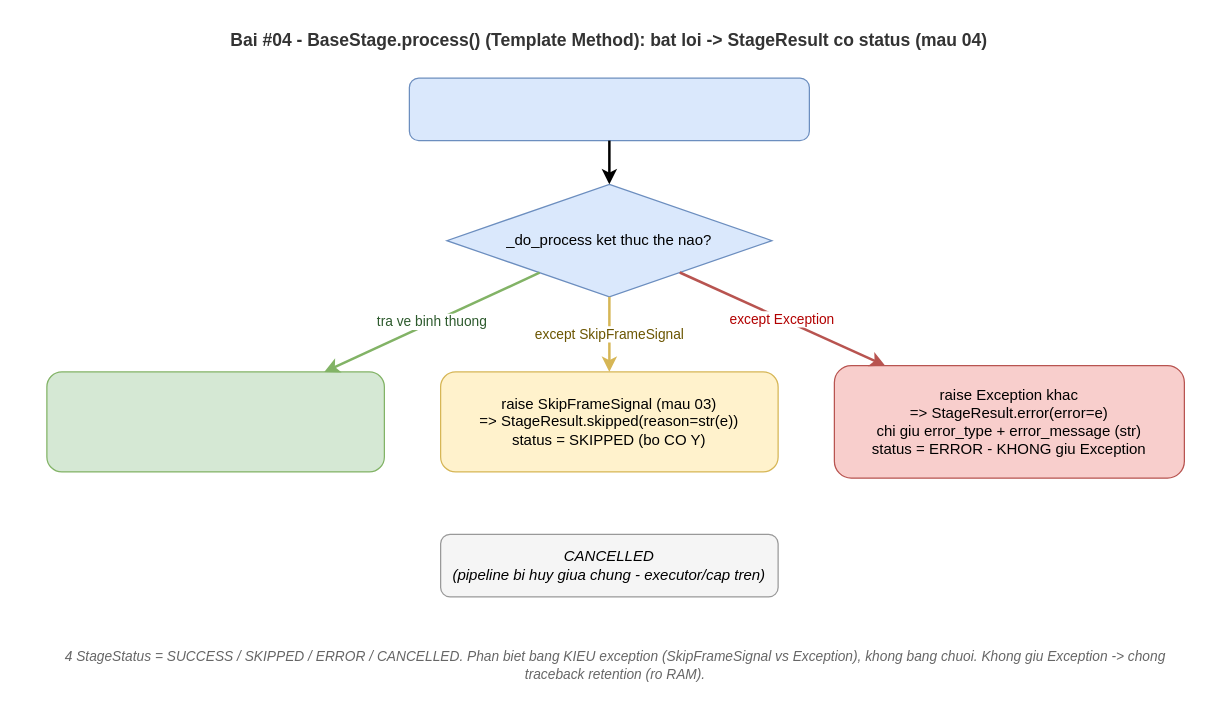
Image size: 1218x718. Some labels were removed from this diagram. The shapes that lost their labels are listed below. From the top down, each one's centre as x and y in pixels, then its label:
At point (608, 109): "process(packet) duoc goi try: result = self._do_process(packet)".
At point (215, 421): "tra packet binh thuong => StageResult.success(...) status = SUCCESS".
